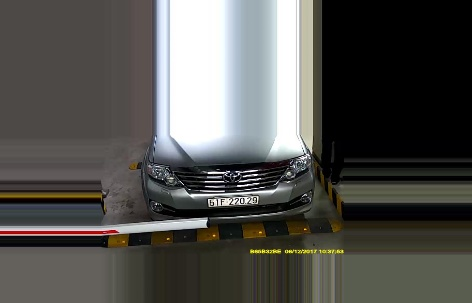plate: (207, 195, 261, 208)
